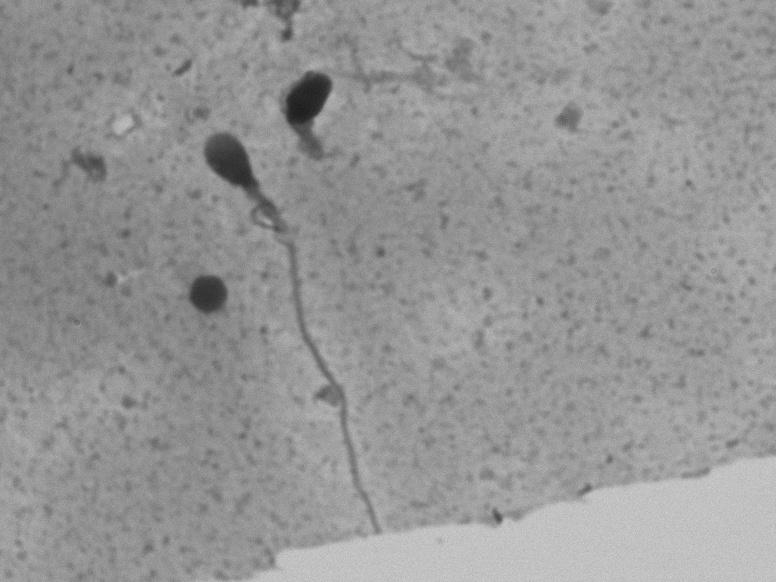Abnormal: (188, 114, 403, 514)
